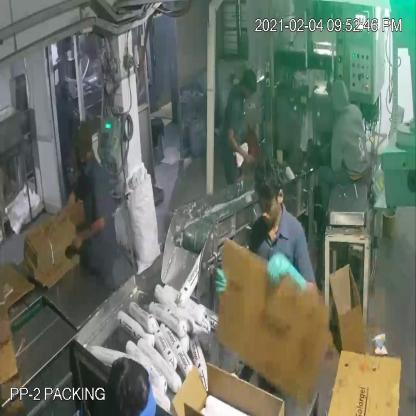glove: (267, 246, 314, 306), (212, 260, 233, 306)
no_glove: (68, 203, 118, 263), (40, 189, 86, 238), (227, 122, 256, 170)
